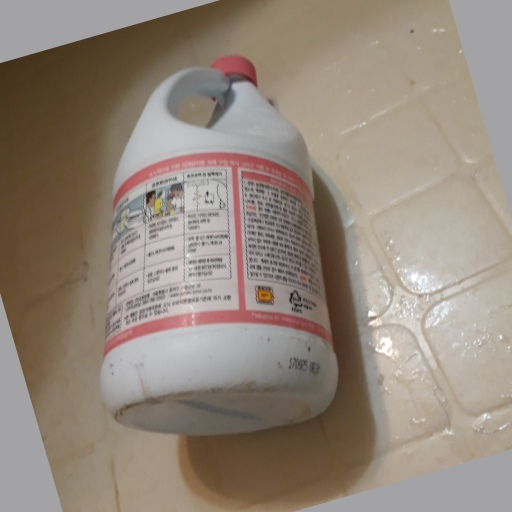Plastic_1: (101, 54, 340, 435)
